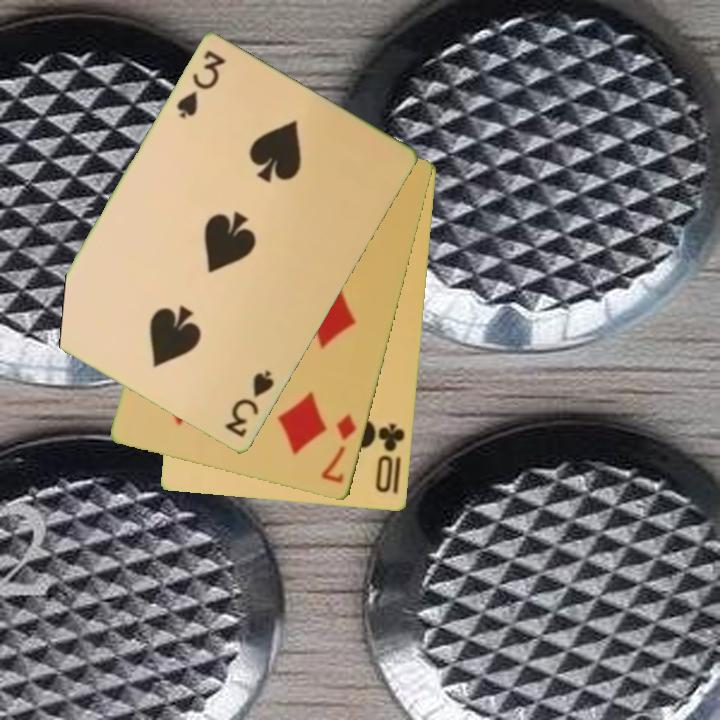10c: (372, 420, 408, 496)
3s: (173, 47, 229, 123), (221, 367, 278, 441)
7d: (318, 410, 360, 487)
